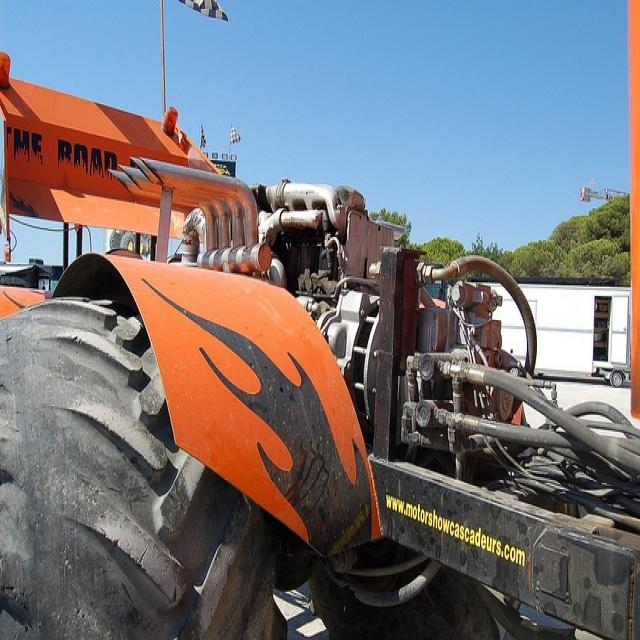truck: (0, 54, 639, 631), (478, 276, 630, 384)
